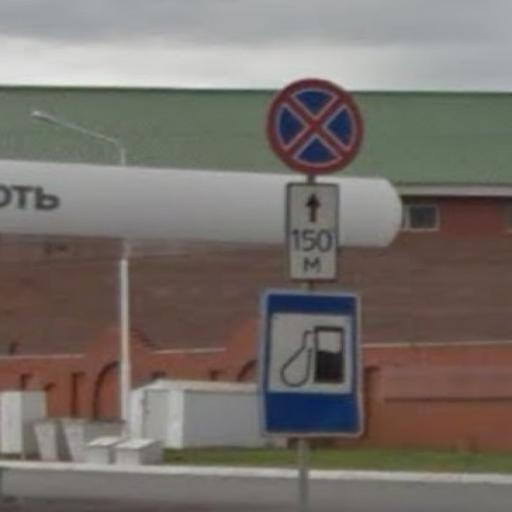traffic_sign: (260, 289, 367, 439), (266, 78, 370, 179)
